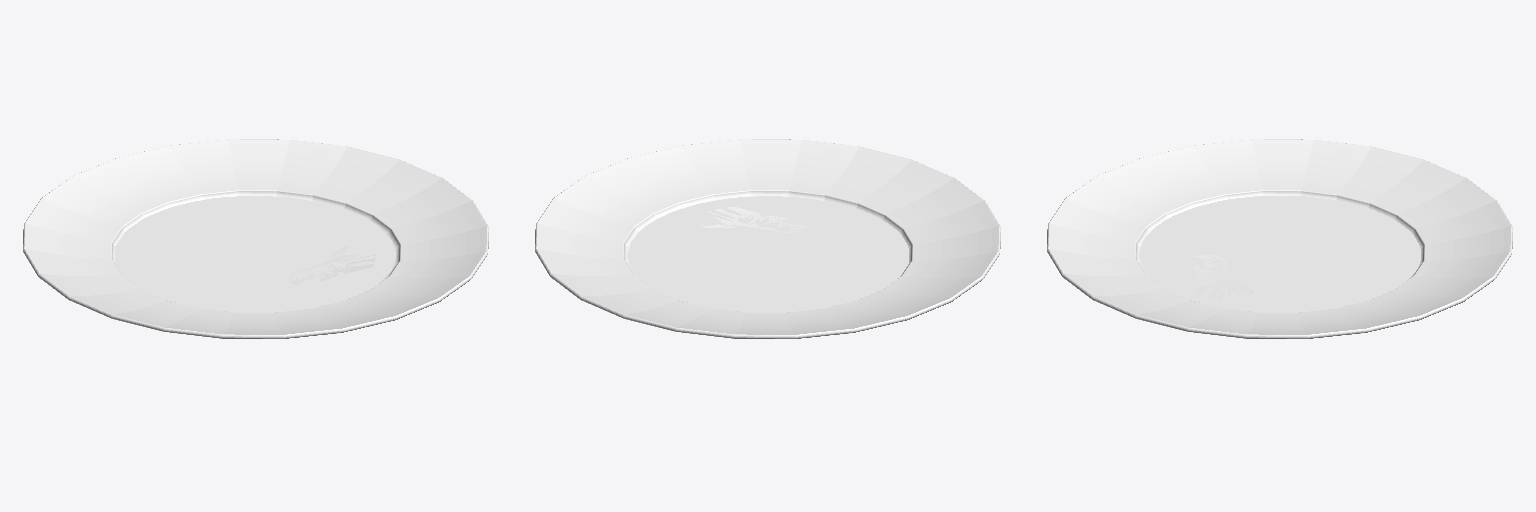
Rendered from plate.obj.
The picture shows the model from 3 angles: view 1: azimuth 30°, elevation 25°; view 2: azimuth 150°, elevation 25°; view 3: azimuth 270°, elevation 25°; orthographic projection.
Visible parts, largest first — view 1: Group_001; view 2: Group_001; view 3: Group_001.
Part boxes in pixels (left/top/right/bottom): Group_001: left=23, top=139, right=488, bottom=338; Group_001: left=535, top=139, right=1000, bottom=338; Group_001: left=1047, top=139, right=1512, bottom=338.
Bounding box in the file's own units: 1.4 × 0.1249 × 1.4.